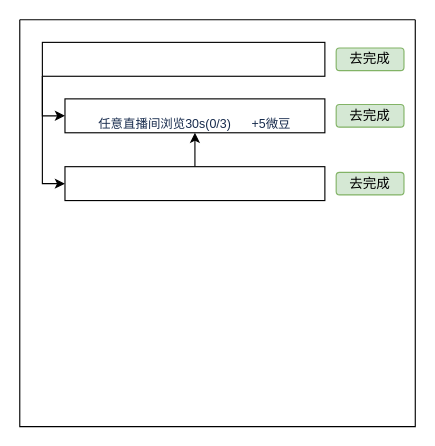
This 435x446 diagram has some shape labels left out. Here are the shapes that lost their labels. From the top down, the centre of each, then its label:
At point 183,58: "任意直播间下单或浏览直播间3次（0/1） +5元优惠券".
At point 194,183: "任意直播间下单(0/1) +5微豆".
